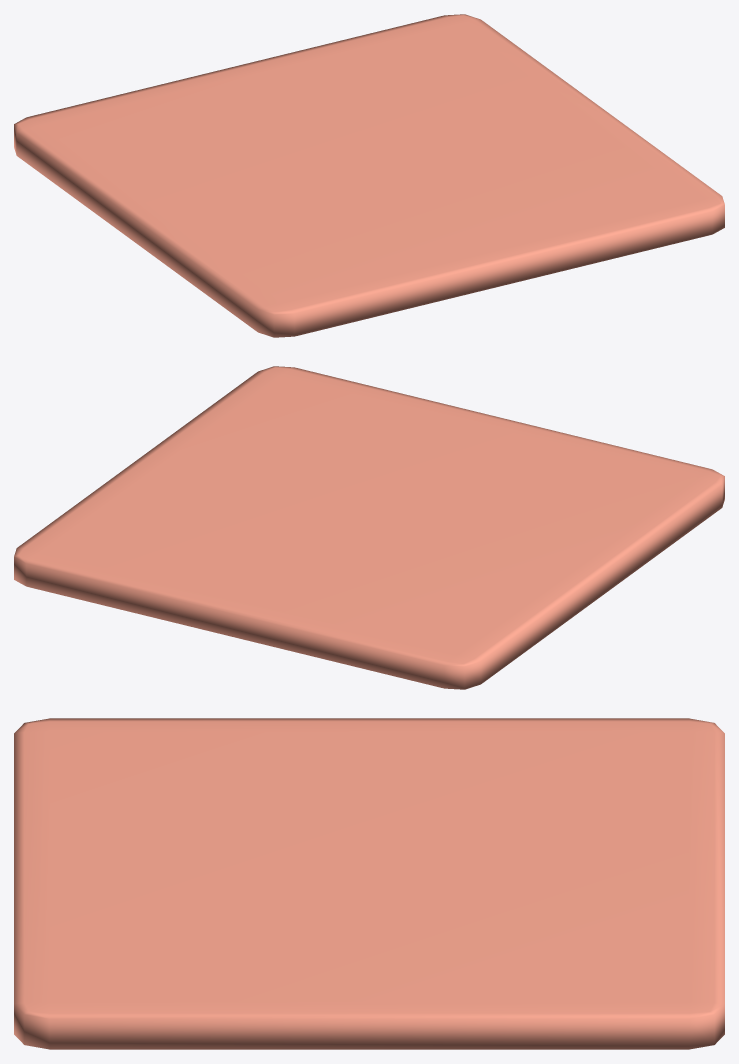
Rendered from podloga.gltf.
The picture shows the model from 3 angles, top to bottom: view 1: azimuth 30°, elevation 25°; view 2: azimuth 150°, elevation 25°; view 3: azimuth 270°, elevation 25°; orthographic projection. The views are drawn at different scales.
Parts seen in each view (by area): view 1: Cube.001; view 2: Cube.001; view 3: Cube.001.
Boxes of the visible parts, x1,y1,x2,y2 form: Cube.001: [14, 14, 724, 337]; Cube.001: [14, 366, 724, 689]; Cube.001: [14, 718, 724, 1049].
Size of the model in its own units: 30 by 1.58 by 30.
1 material, 1 textured.
